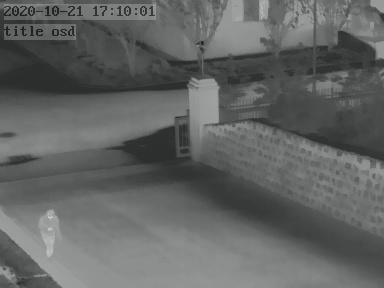person: (40, 207, 59, 259)
